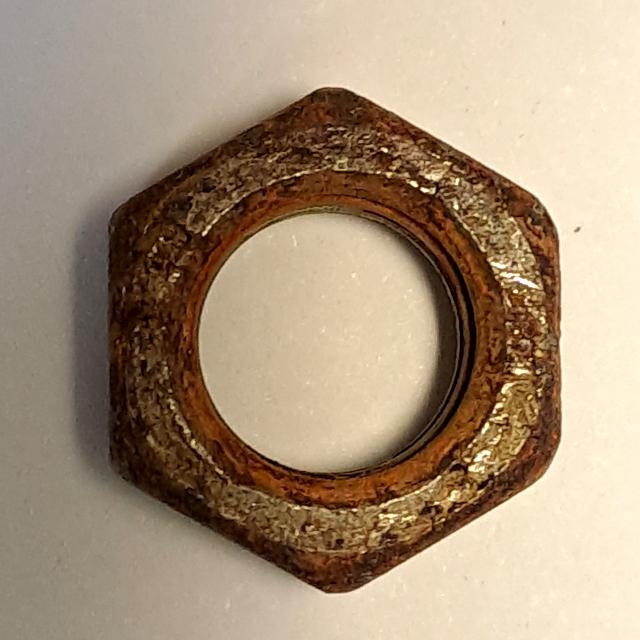Rust: (89, 57, 583, 609)
